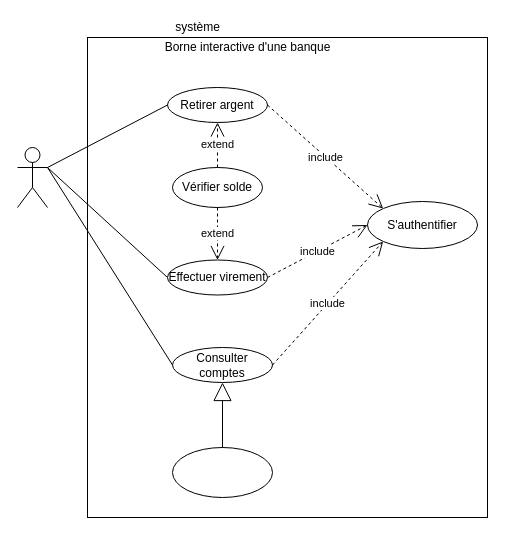
Image size: 505x535. Some labels were removed from this diagram. The shapes that lost their labels are listed below. From the top down, each one's box as (x1, y1, x2, y2) in pixels, then its label:
(16, 146, 48, 208): Client
(172, 446, 272, 498): Consulter depuis internet
